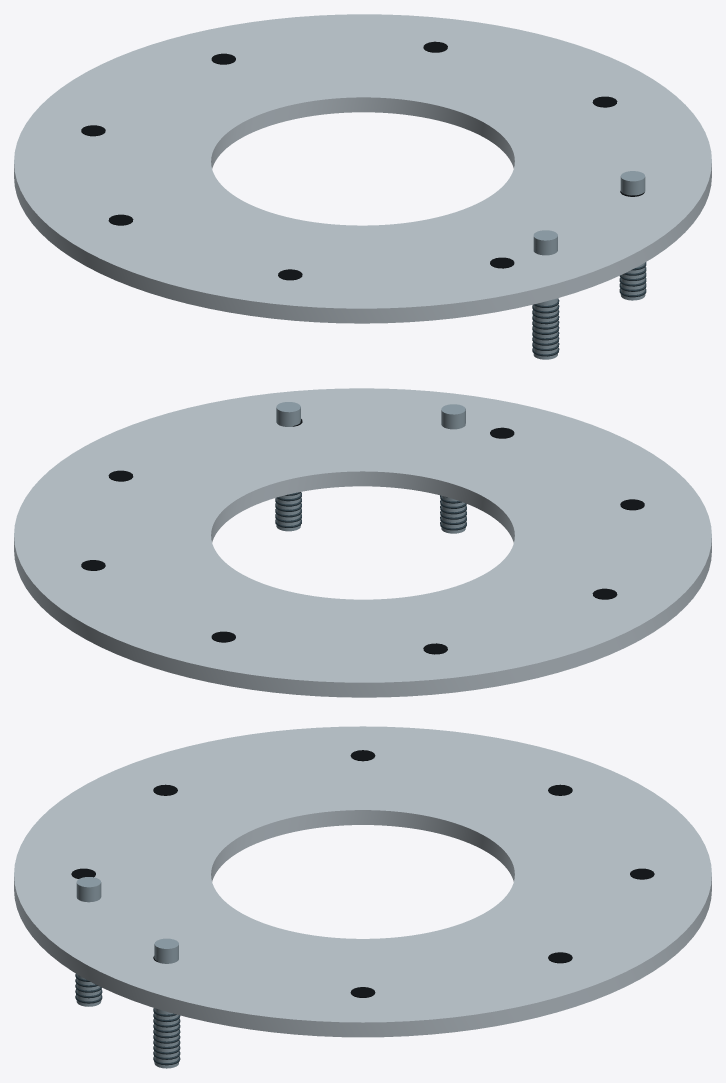
Rendered from payload_mounting_ring.dae.
The picture shows the model from 3 angles, top to bottom: view 1: azimuth 30°, elevation 25°; view 2: azimuth 150°, elevation 25°; view 3: azimuth 270°, elevation 25°; orthographic projection.
Visible parts, largest first — view 1: node0, node3, node1, node2; view 2: node0, node3, node1, node2; view 3: node0, node3, node1, node2.
Boxes of the visible parts, <box> form: node0: <box>14,14,711,323</box>; node3: <box>533,171,645,359</box>; node1: <box>81,41,644,280</box>; node2: <box>532,262,646,356</box>; node0: <box>14,388,711,697</box>; node3: <box>276,402,465,533</box>; node1: <box>81,419,644,654</box>; node2: <box>275,492,466,530</box>; node0: <box>14,726,711,1037</box>; node3: <box>76,877,178,1068</box>; node1: <box>71,750,654,997</box>; node2: <box>75,974,180,1065</box>.
Bounding box in the file's own units: 0.17 × 0.1694 × 0.032.
